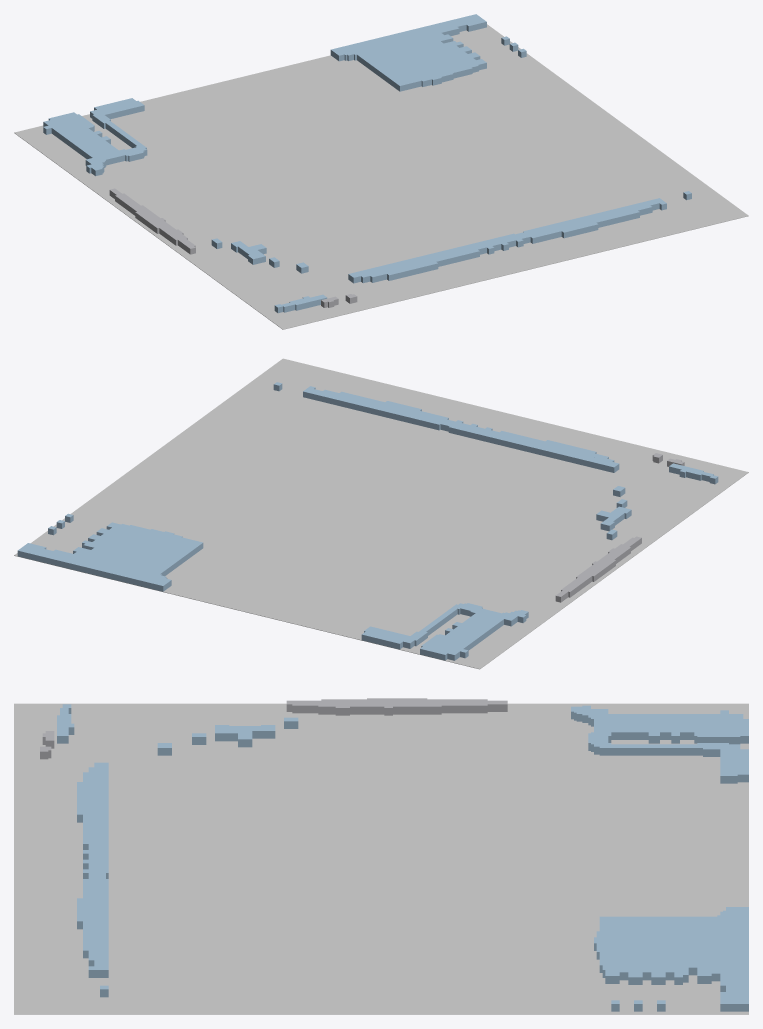
The model's file is floorplan_3d_clean.glb.
The picture shows the model from 3 angles, top to bottom: view 1: azimuth 30°, elevation 25°; view 2: azimuth 150°, elevation 25°; view 3: azimuth 270°, elevation 25°; orthographic projection. The views are drawn at different scales.
Parts seen in each view (by area): view 1: world; view 2: world; view 3: world.
Boxes of the visible parts, bbox=[...] form: world: bbox=[14, 14, 748, 329]; world: bbox=[14, 358, 748, 669]; world: bbox=[14, 698, 748, 1014].
Size of the model in its own units: 256 by 3.2 by 256.
